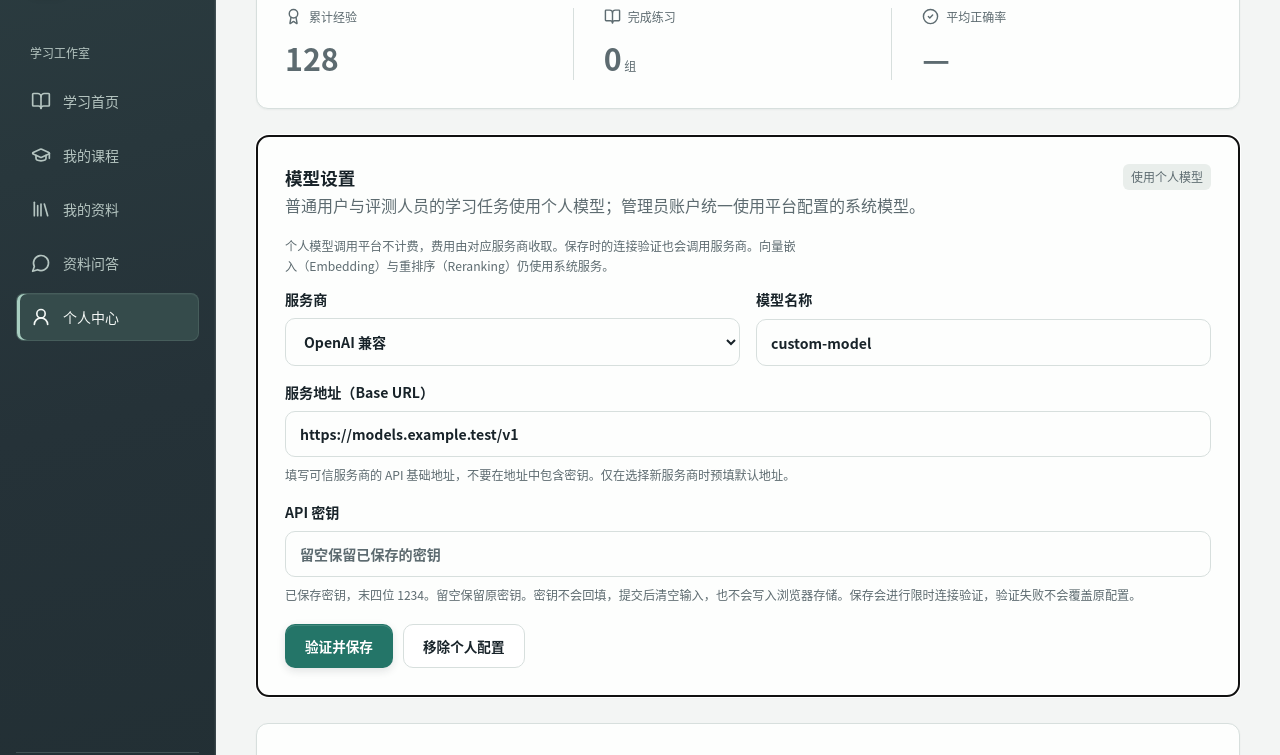
Scenario: personal model settings › rejects a failed probe, leaves saved metadata intact and suppresses echoed secrets
(page scrolled)
Type "sk-private-test-9876" into the password field labelled "API 密钥".
click(748, 554); type("sk-private-test-9876")  # box [285,531,1211,577]
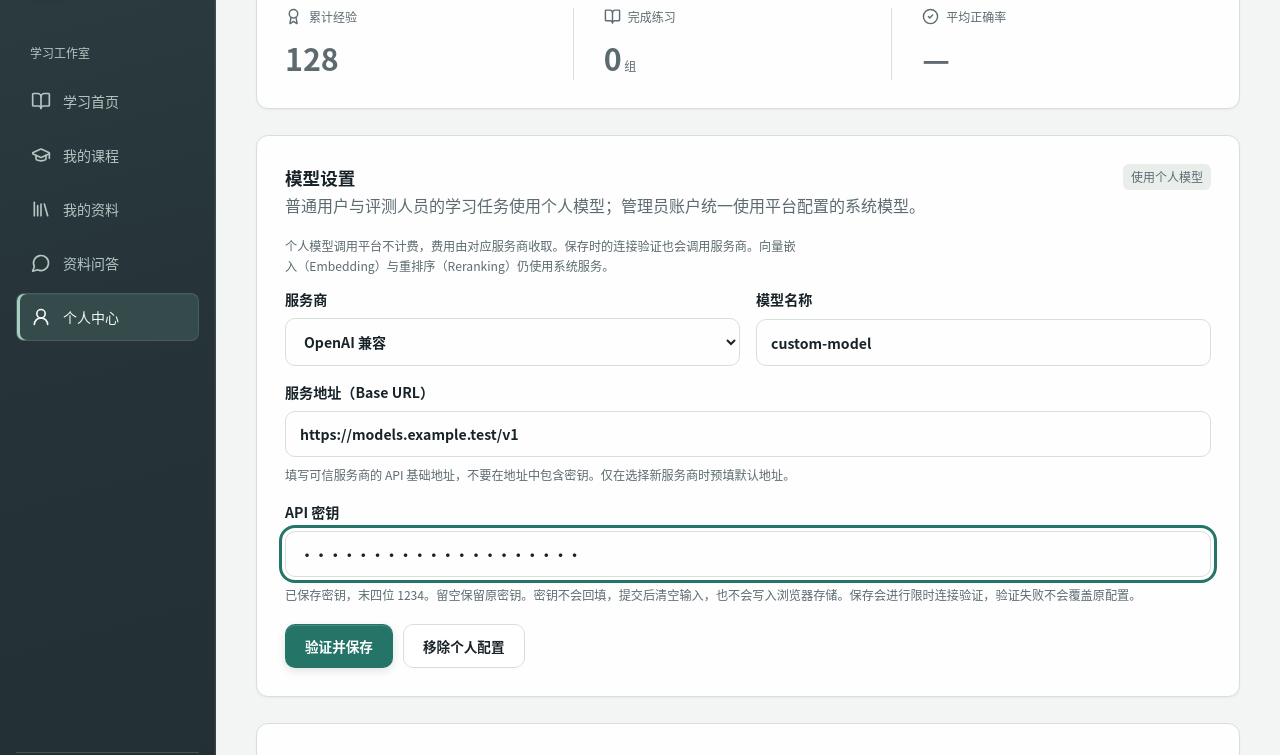
Click the button "验证并保存".
click(339, 646)  # box [285,624,393,668]
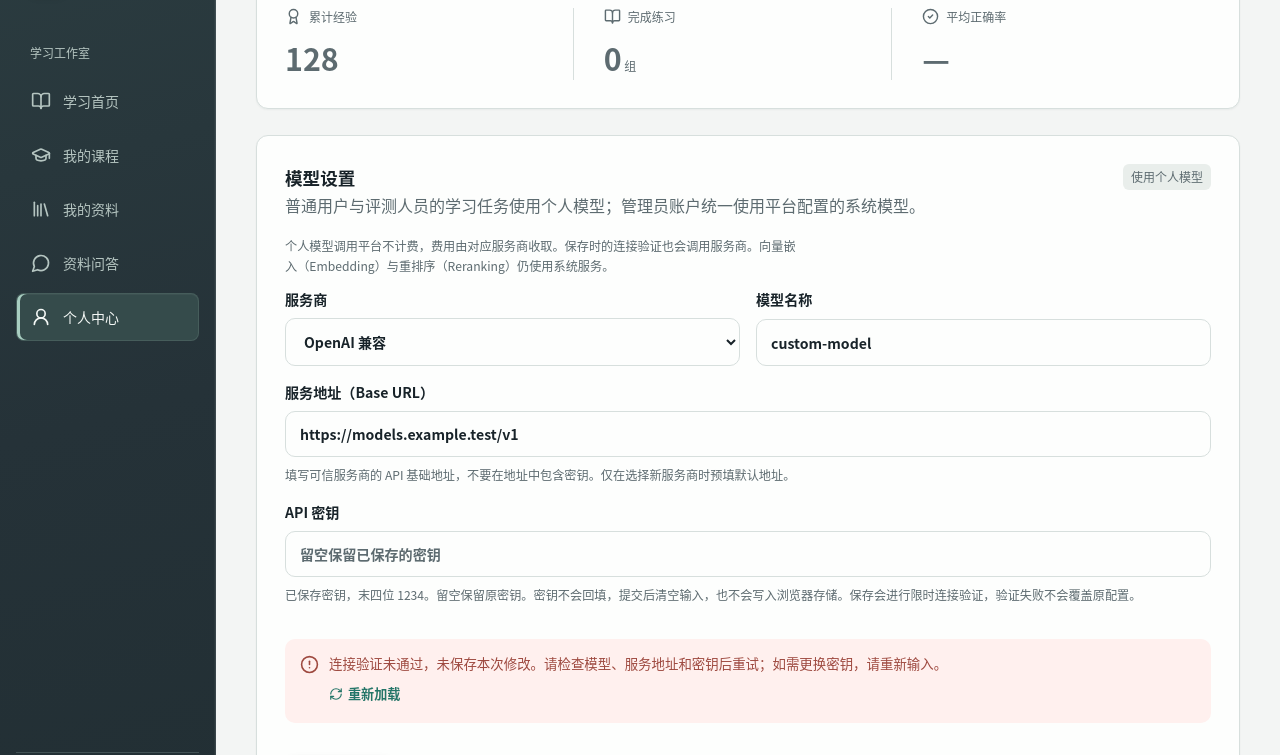
Expected: the message shows "连接验证未通过，未保存本次修改", [329,653,947,673]
Expected: the password field labelled "API 密钥" is empty, [285,531,1211,577]
